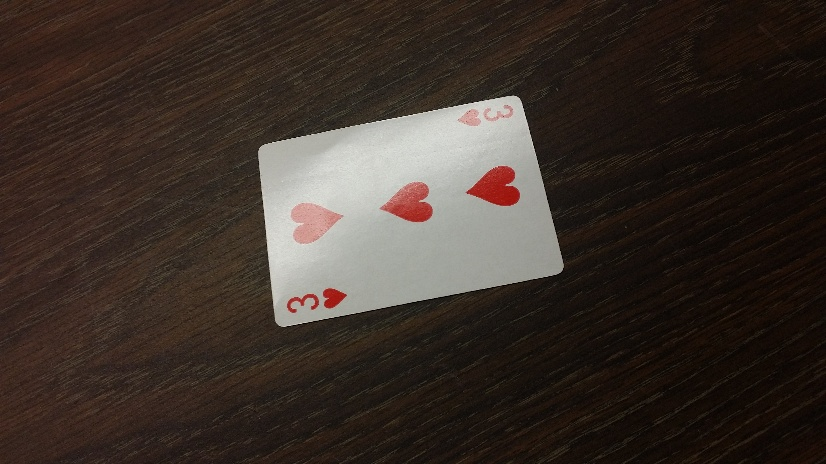H3: (283, 284, 348, 314), (460, 103, 515, 133)
